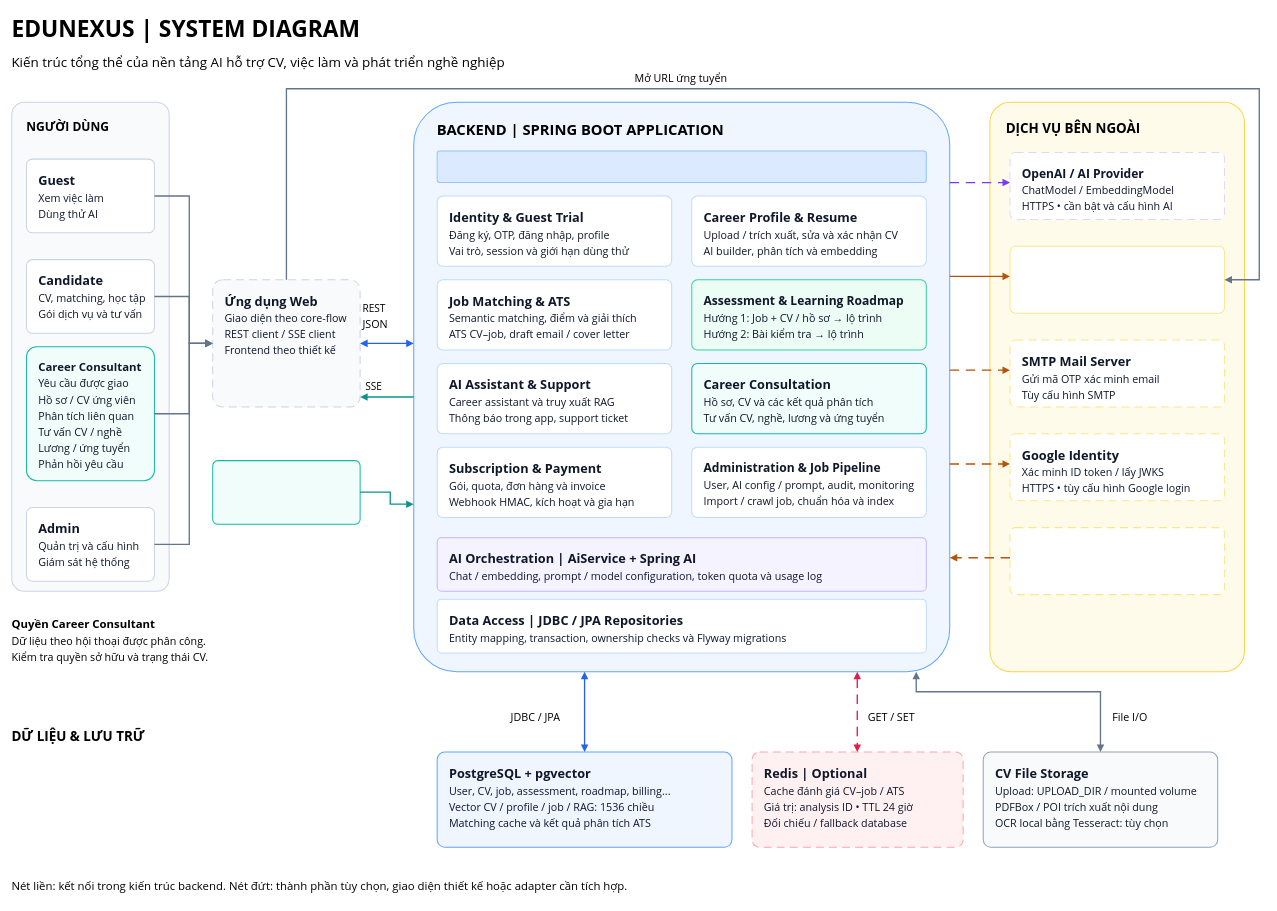
This 1277x911 diagram has some shape labels left out. Each missing label, with the centre of its shape:
ITviec / TopCV HTTPS crawl HTML / JSON-LD Ứng tuyển qua URL job gốc: the point at 1117,279
Payment Gateway / Adapter Webhook HMAC → backend Checkout cần adapter tích hợp: the point at 1117,561
REST /api/v1 • DTO validation • Bearer token / RBAC • Guest session: the point at 681,166
Swagger UI Kiểm thử REST API: the point at 286,492
